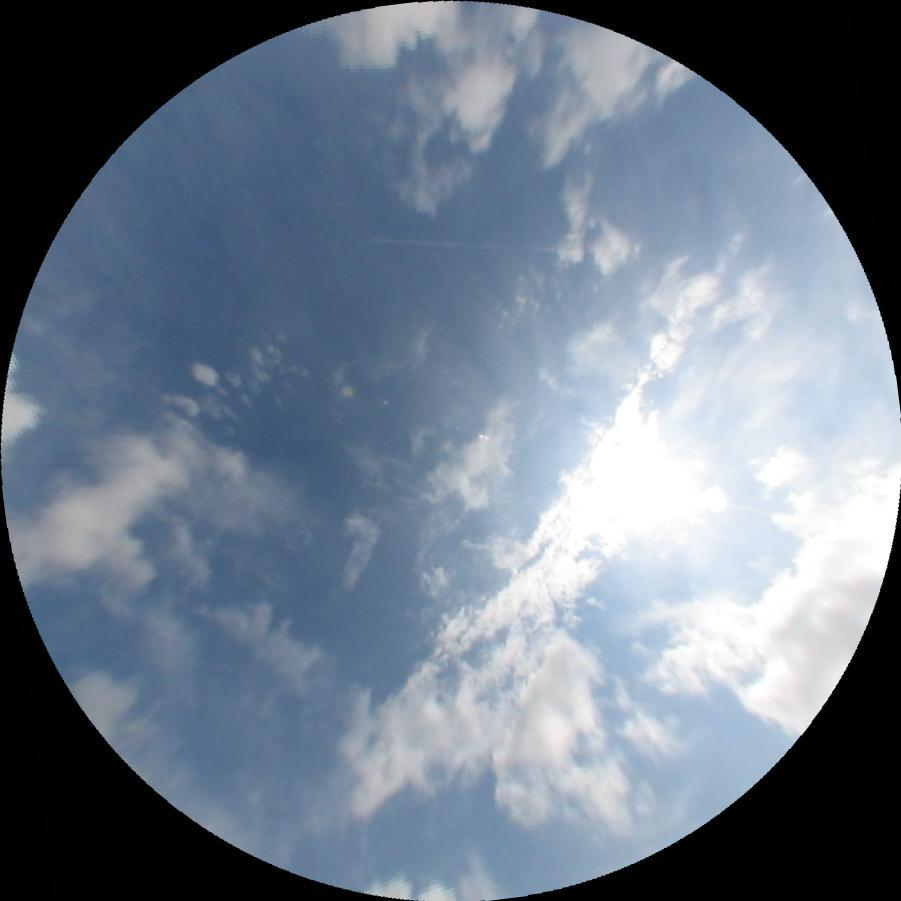contrail young: (368, 236, 556, 252)
sun: (584, 421, 701, 542)
